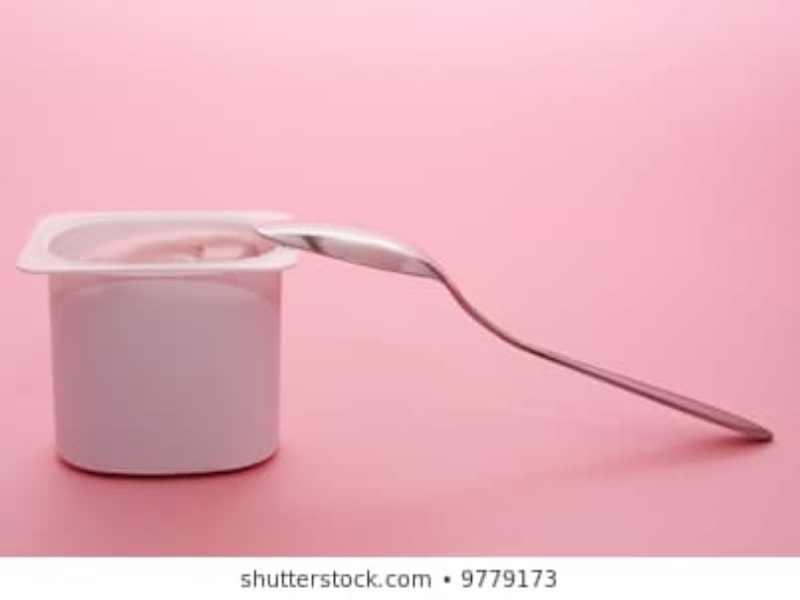yogurt-cup: (15, 208, 314, 481)
